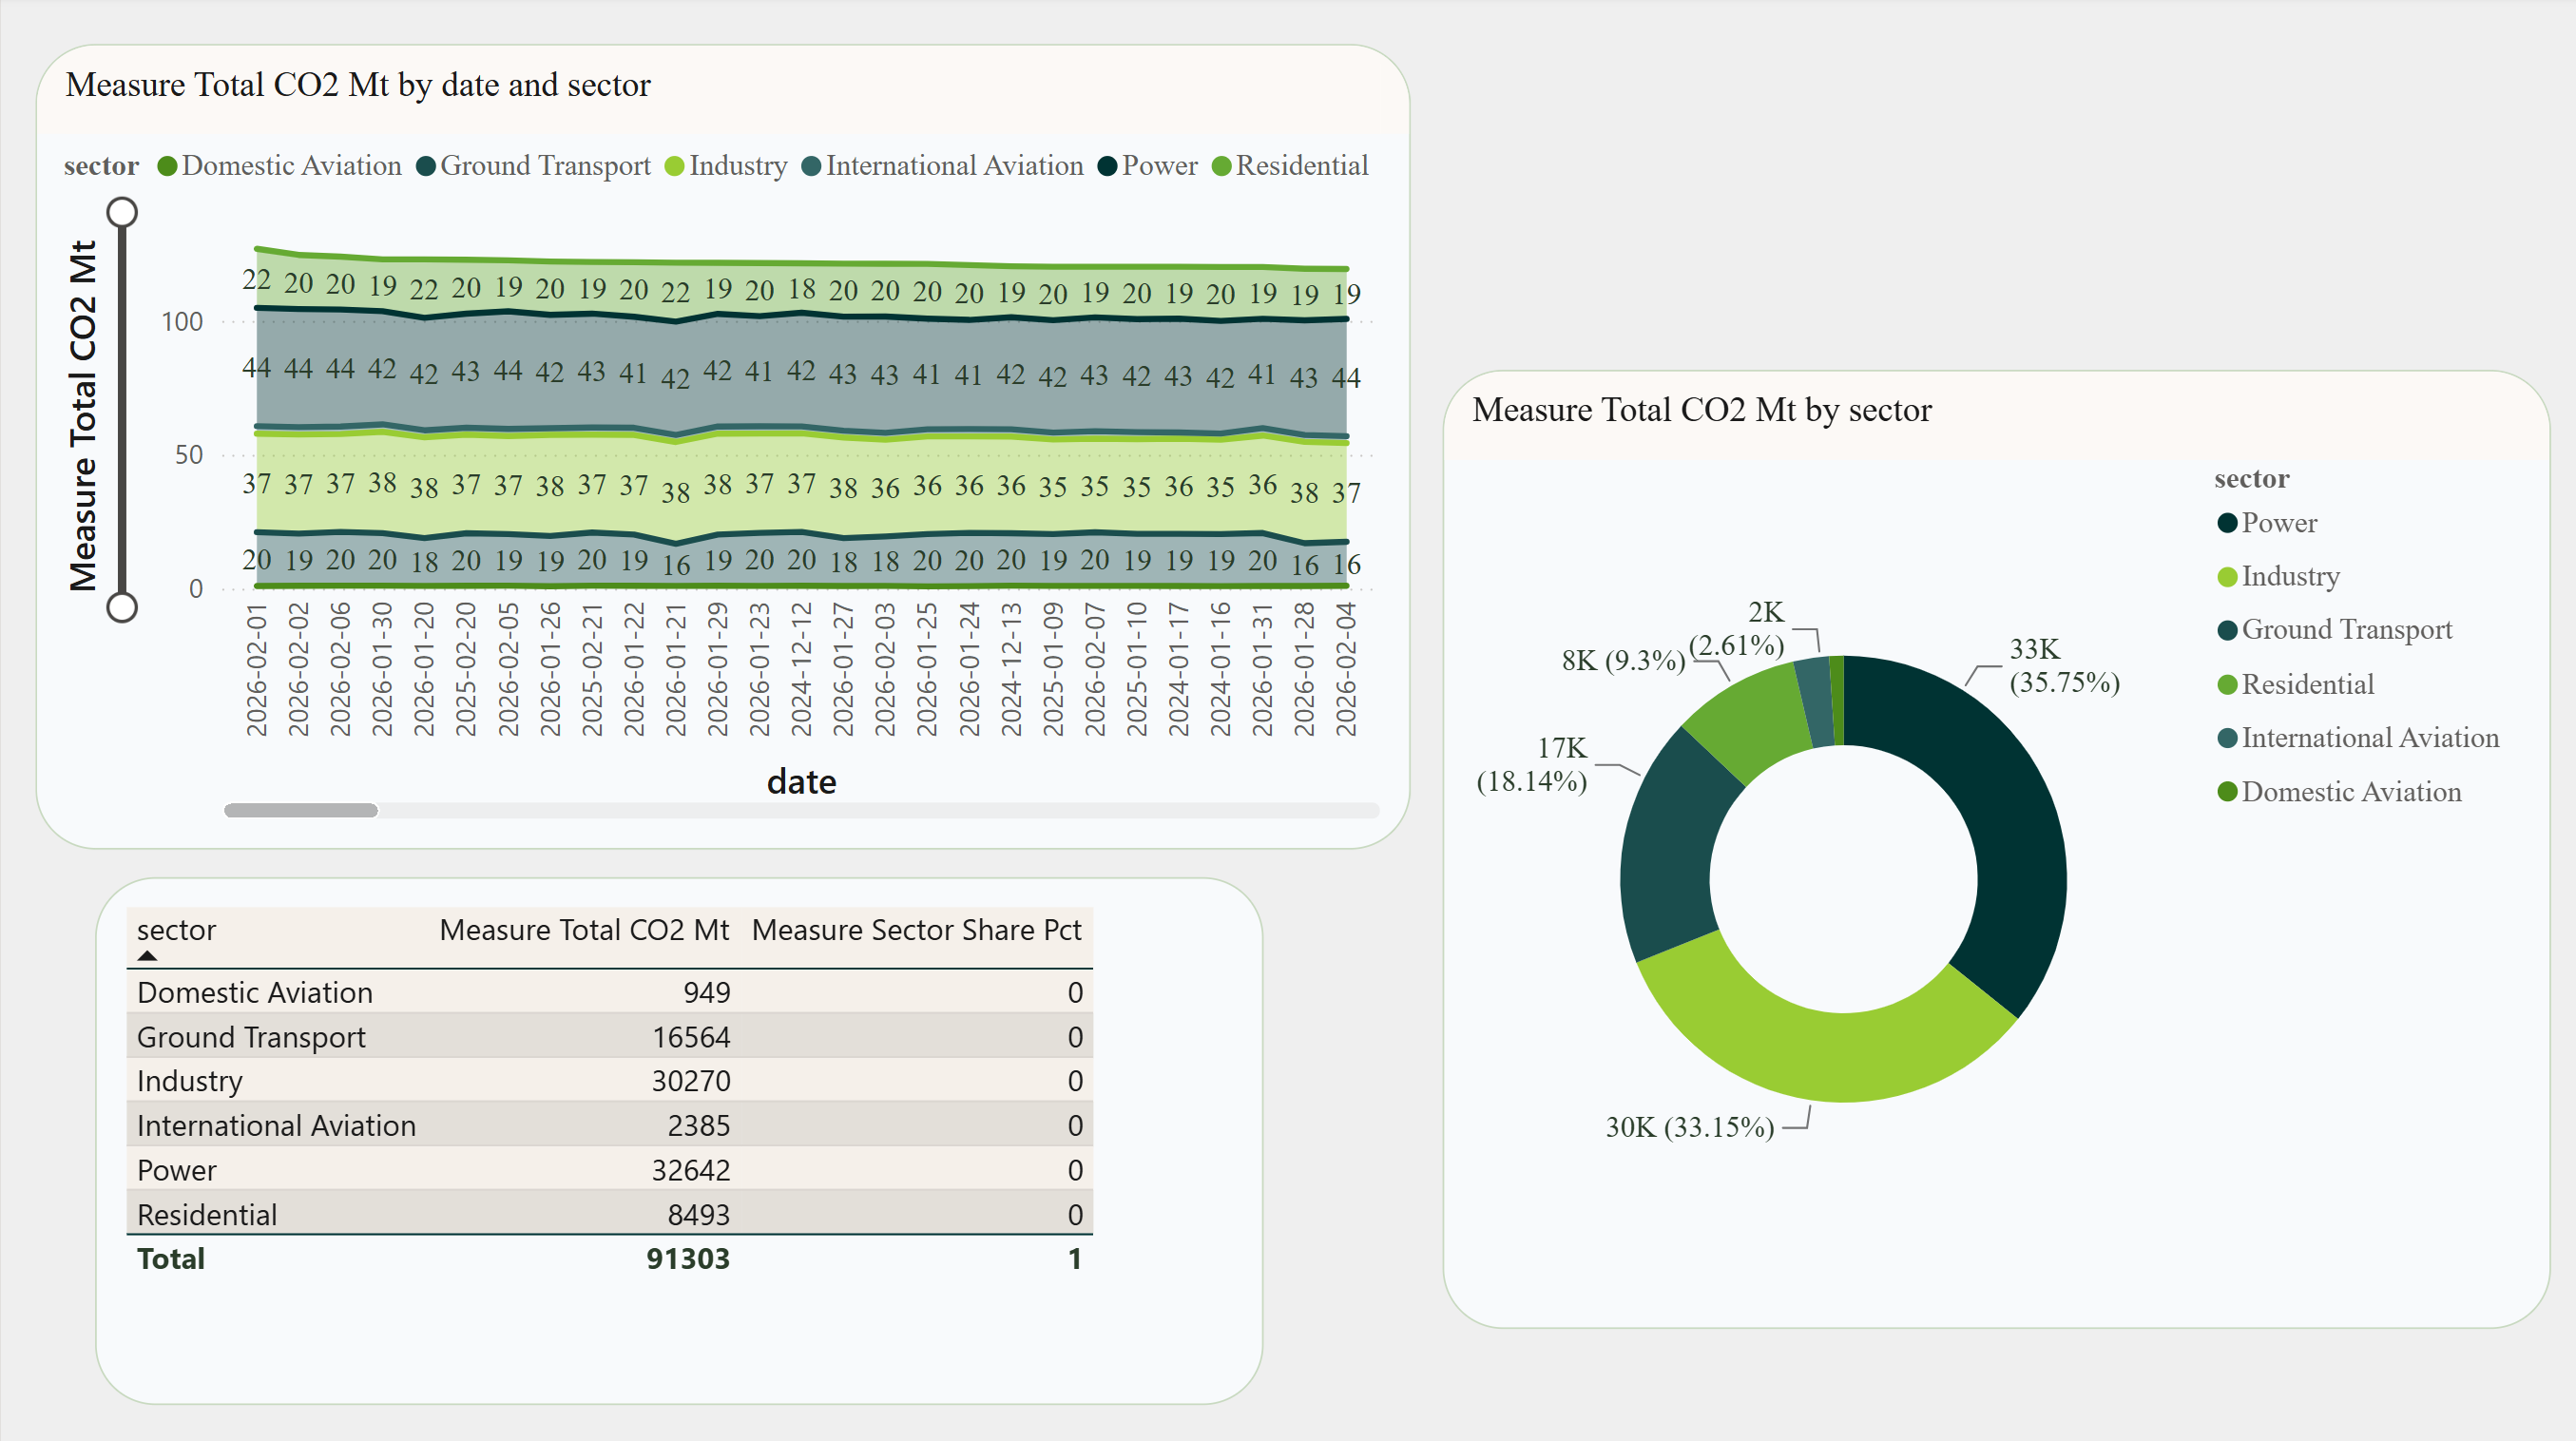

What the dashboard file says about the page in this screenshot:
{"tool":"powerbi","page":{"name":"Sectors","canvas":[1280,720],"ordinal":1},"visuals":[{"type":"donutChart","fields":{"Category":["daily_emissions.sector"],"Y":["daily_emissions.Measure  Total CO2 Mt"]},"box":[715.7,186.9,550.4,476.4],"z":0},{"type":"stackedAreaChart","fields":{"Category":["daily_emissions.date"],"Y":["daily_emissions.Measure  Total CO2 Mt"],"Series":["daily_emissions.sector"]},"box":[17.1,25.1,682.6,400],"z":1000},{"type":"tableEx","fields":{"Values":["daily_emissions.sector","daily_emissions.Measure  Total CO2 Mt","daily_emissions.Measure Sector Share Pct"]},"box":[46.7,438.8,580.1,262.1],"z":2000}]}

Visuals, with their boxes in screenshot pixels (x1, y1, x2, y2), scaled from the page's 1280x720 canvas onto the 2576x1441 screenshot:
donutChart - daily_emissions.sector x daily_emissions.Measure  Total CO2 Mt: bbox(1440, 375, 2548, 1328)
stackedAreaChart - daily_emissions.date x daily_emissions.Measure  Total CO2 Mt: bbox(34, 50, 1408, 851)
tableEx - daily_emissions.sector x daily_emissions.Measure  Total CO2 Mt: bbox(94, 878, 1261, 1403)
